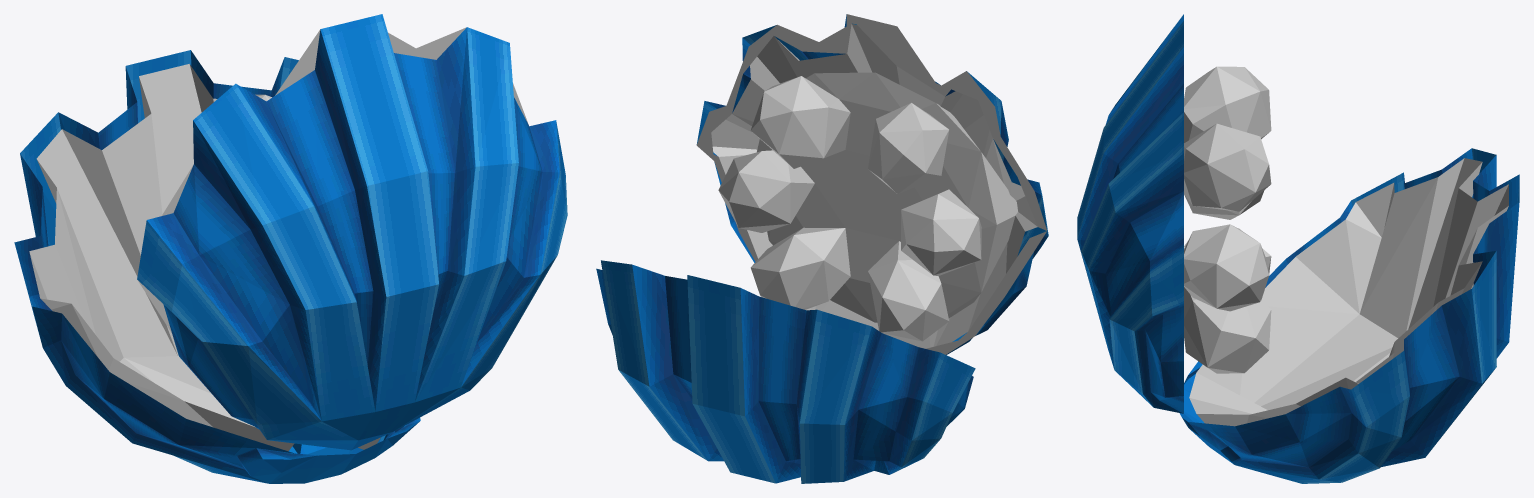
Rendered from BR_Clamperl-Shiny01.obj.
3 views of the same model, side by side, from view 1: azimuth 30°, elevation 25°; view 2: azimuth 150°, elevation 25°; view 3: azimuth 270°, elevation 25° (orthographic). The views are drawn at different scales.
Parts seen in each view (by area): view 1: pearlulu; view 2: pearlulu; view 3: pearlulu.
Boxes of the visible parts, box(x1,y1,x2,y2) form: pearlulu: box(14, 14, 567, 483); pearlulu: box(596, 14, 1048, 483); pearlulu: box(1077, 14, 1519, 483).
Bounding box in the file's own units: 4.41 × 4.65 × 4.35.
